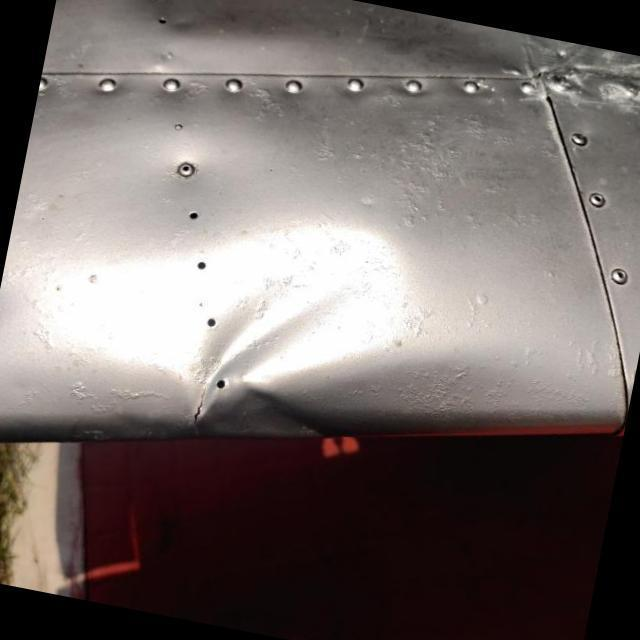Dent: (152, 202, 420, 479)
Rupture: (180, 384, 223, 448)
